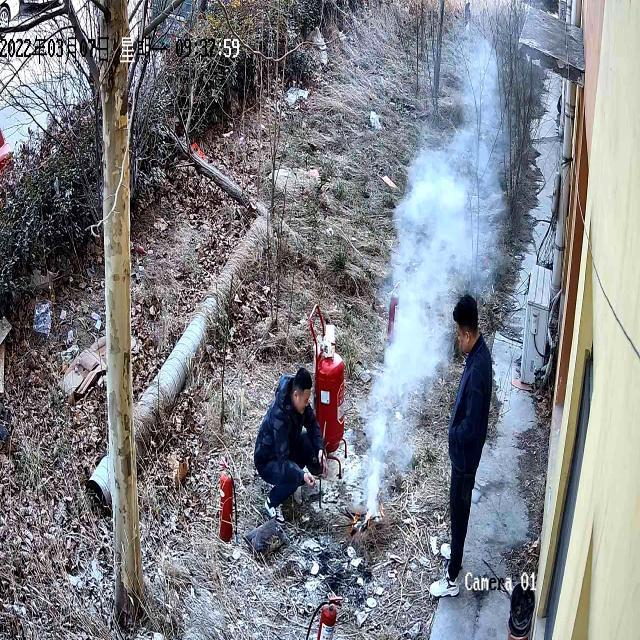Smoke: (374, 0, 552, 312), (347, 296, 450, 457), (350, 454, 390, 554)
